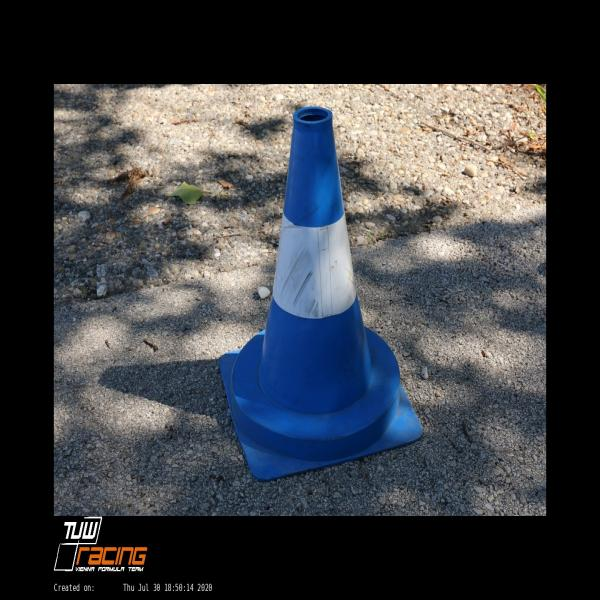blue_cone: (220, 108, 422, 478)
